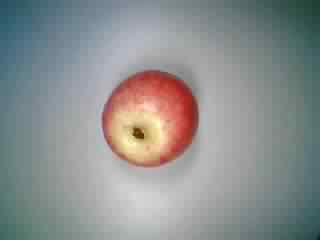apple: (98, 69, 203, 171)
